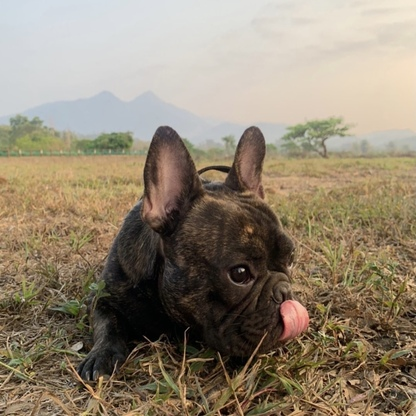bulldog: (74, 123, 313, 384)
